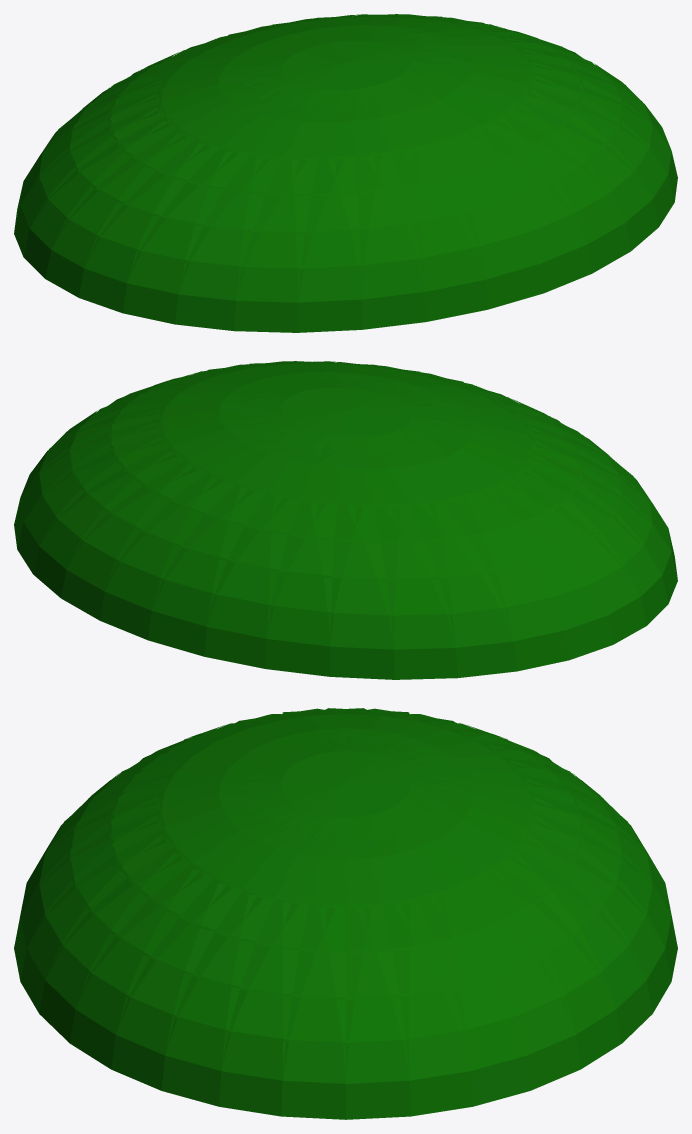
Rendered from Caparazon.fbx.
3 renders of one model, top to bottom at view 1: azimuth 30°, elevation 25°; view 2: azimuth 150°, elevation 25°; view 3: azimuth 270°, elevation 25°, orthographic. The views are drawn at different scales.
Visible parts, largest first — view 1: Esfera; view 2: Esfera; view 3: Esfera.
Part boxes in pixels (x1,y1,x2,y2): Esfera: (14,14,677,332); Esfera: (14,361,677,679); Esfera: (14,708,677,1119).
Size of the model in its own units: 220 by 50 by 180.
